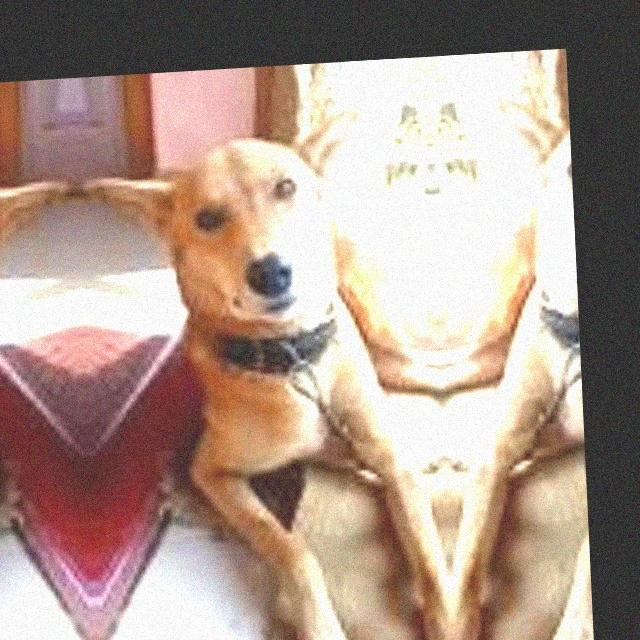dog: (129, 88, 435, 539), (442, 78, 588, 520), (0, 110, 38, 550)
